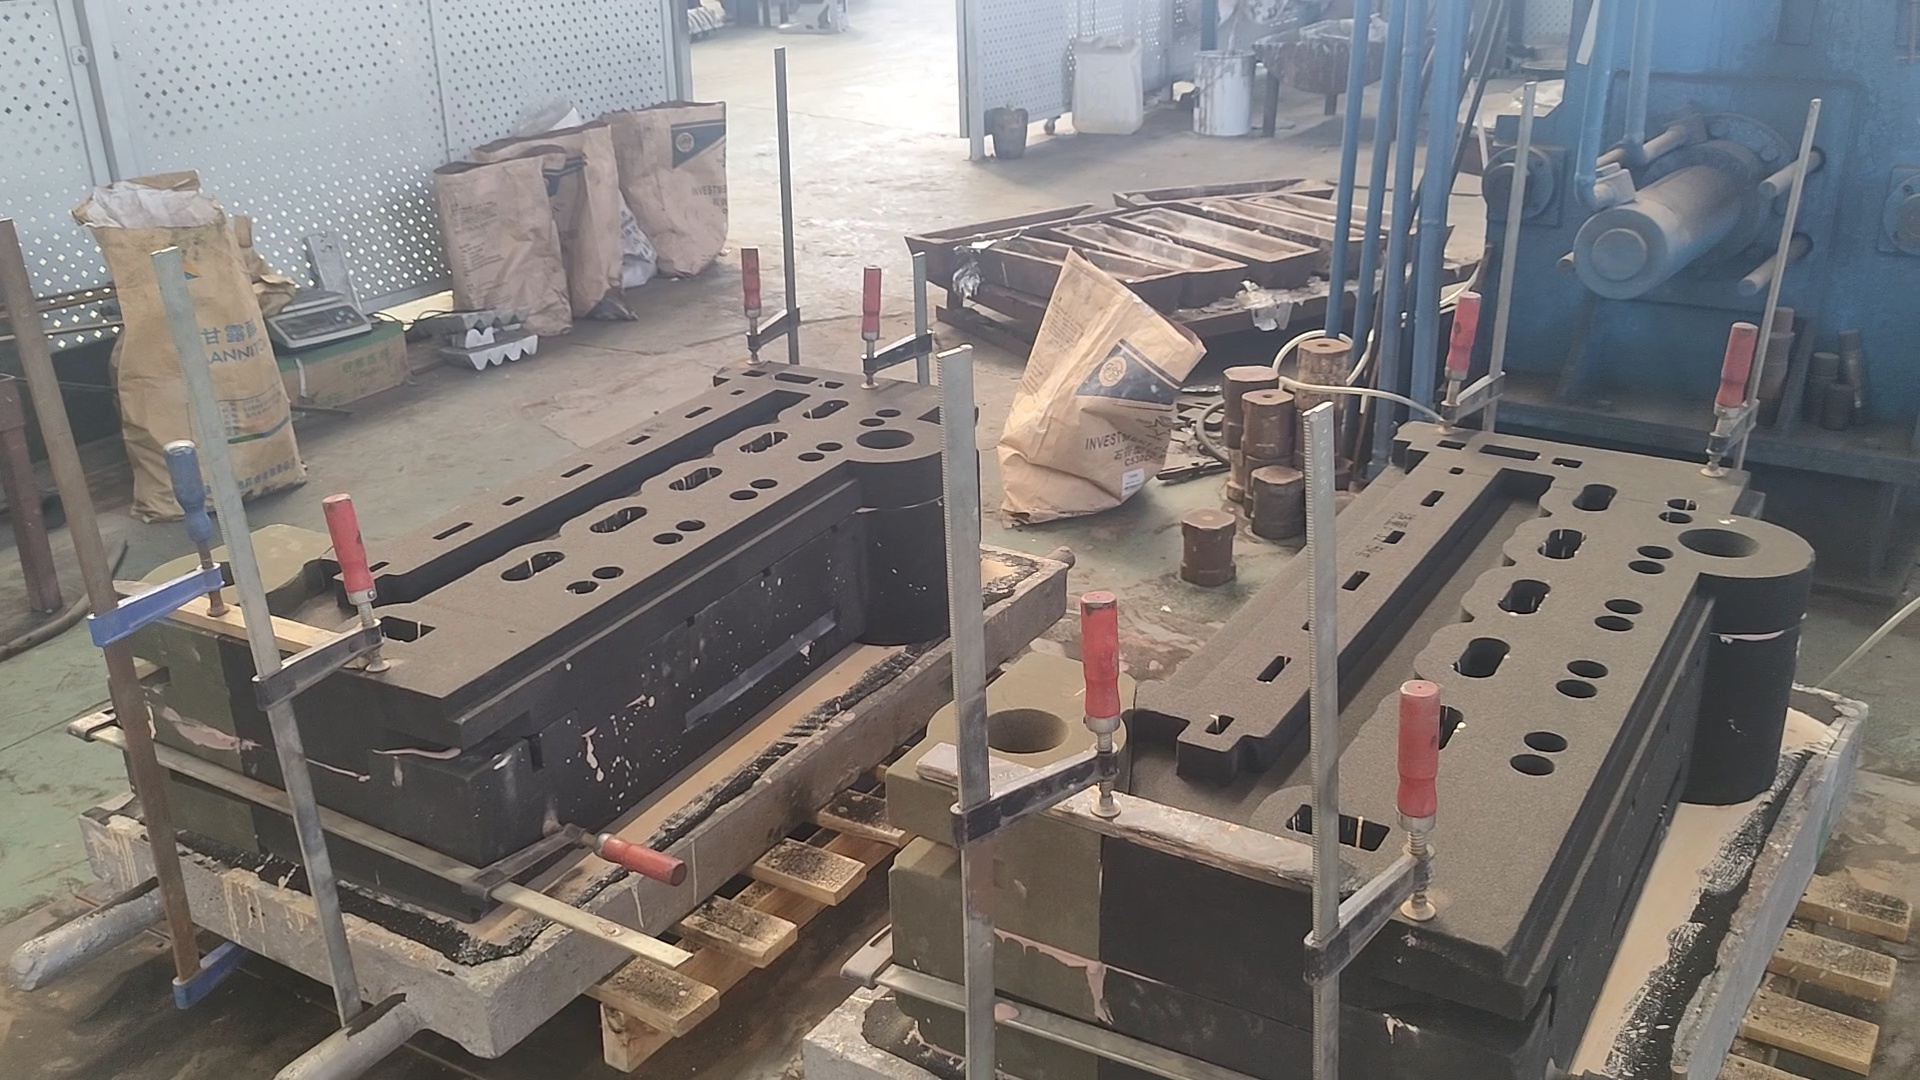pouring hole: (984, 705, 1071, 753), (1677, 527, 1760, 556), (185, 560, 251, 589), (856, 429, 915, 448)
